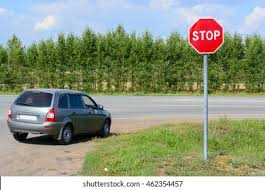stop sign: (188, 18, 223, 54)
